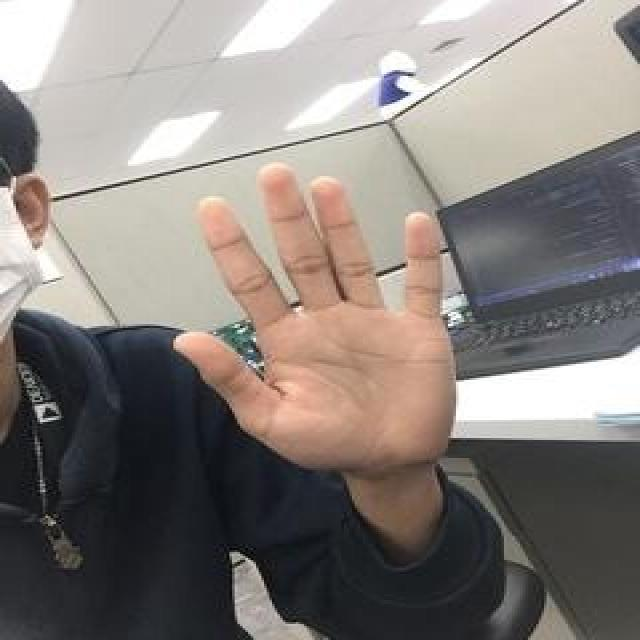hand: (170, 160, 458, 474)
